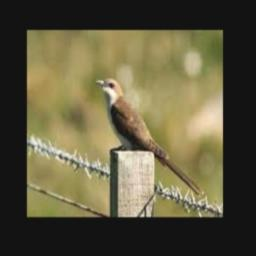Cuckoo: (95, 78, 203, 195)
